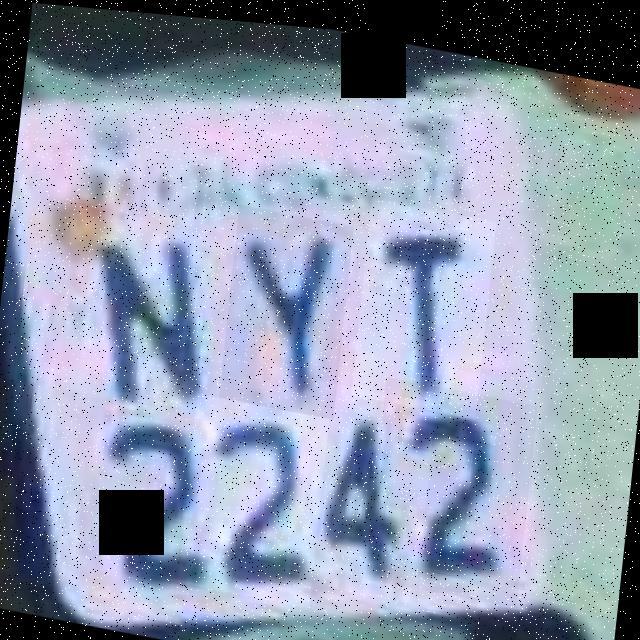2: (364, 367, 538, 600), (178, 388, 328, 603), (72, 394, 223, 601)
4: (283, 370, 436, 598)
N: (74, 209, 218, 423)
T: (350, 189, 496, 411)
Y: (218, 198, 354, 414)
